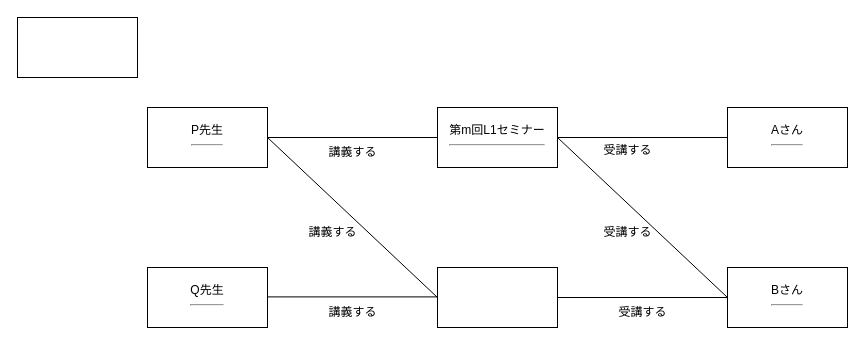
Some shapes in this 865 by 345 pixel diagram are drawn without their labels. Each missing label, with the centre of its shape:
lesson5-3: the point at 77,47
第n回L1セミナー: the point at 497,297
